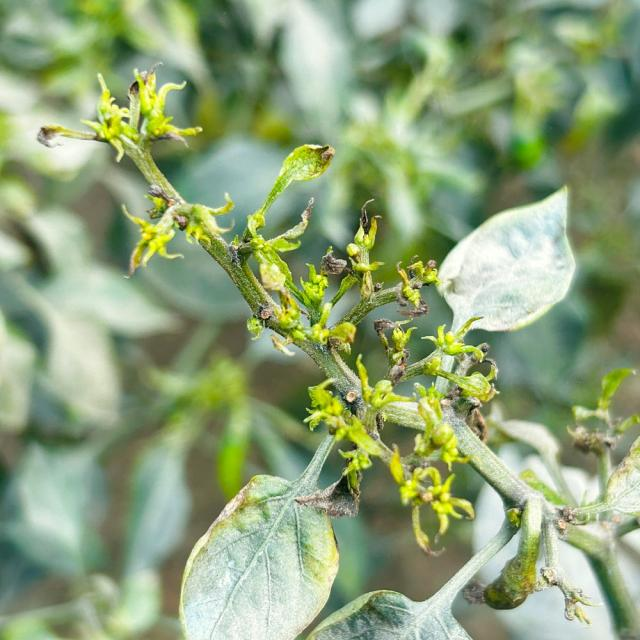Chilli_Leaf_Curl: (36, 62, 637, 638), (177, 428, 354, 638), (433, 183, 577, 336), (243, 141, 335, 239)
